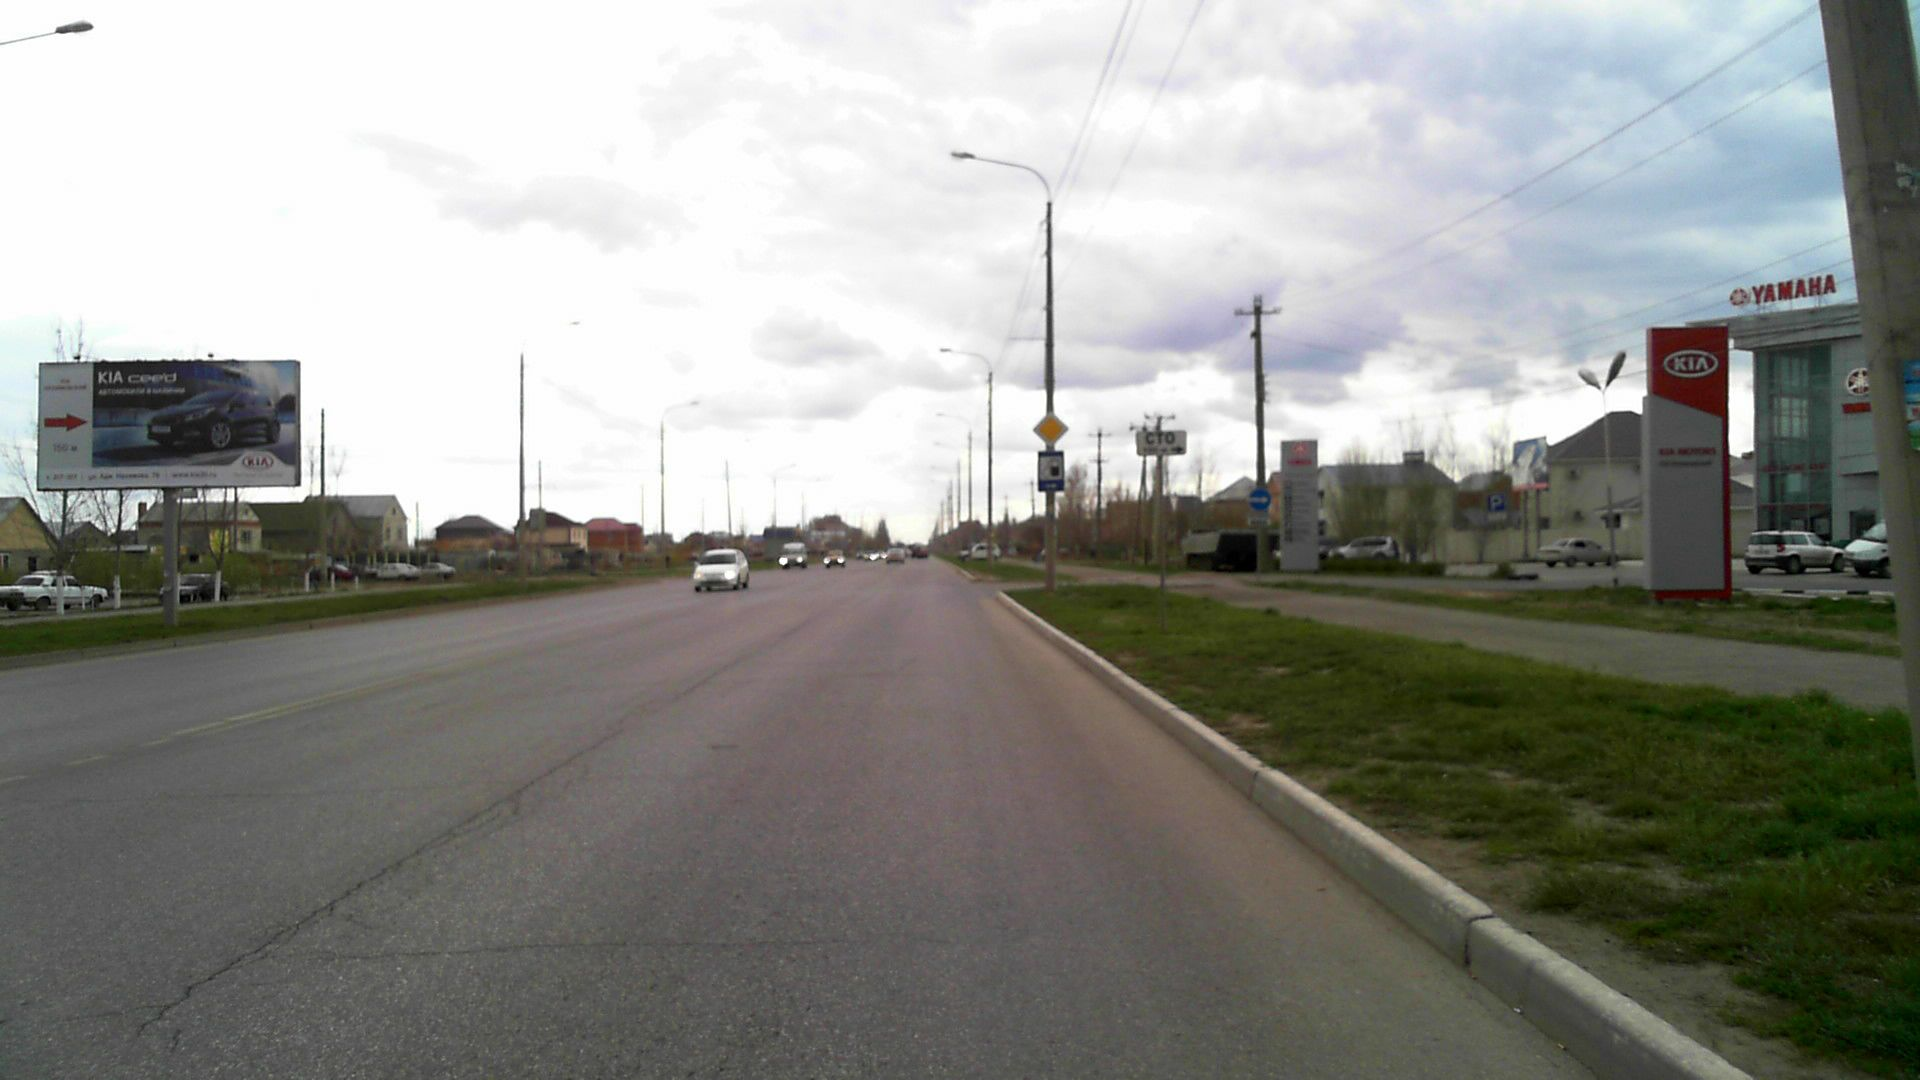Turn Right: (1247, 488, 1273, 512)
